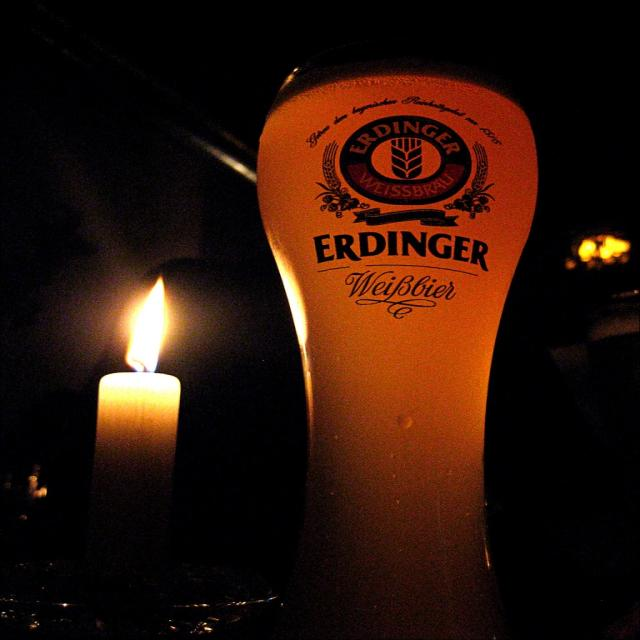erdinger: (300, 93, 514, 280)
